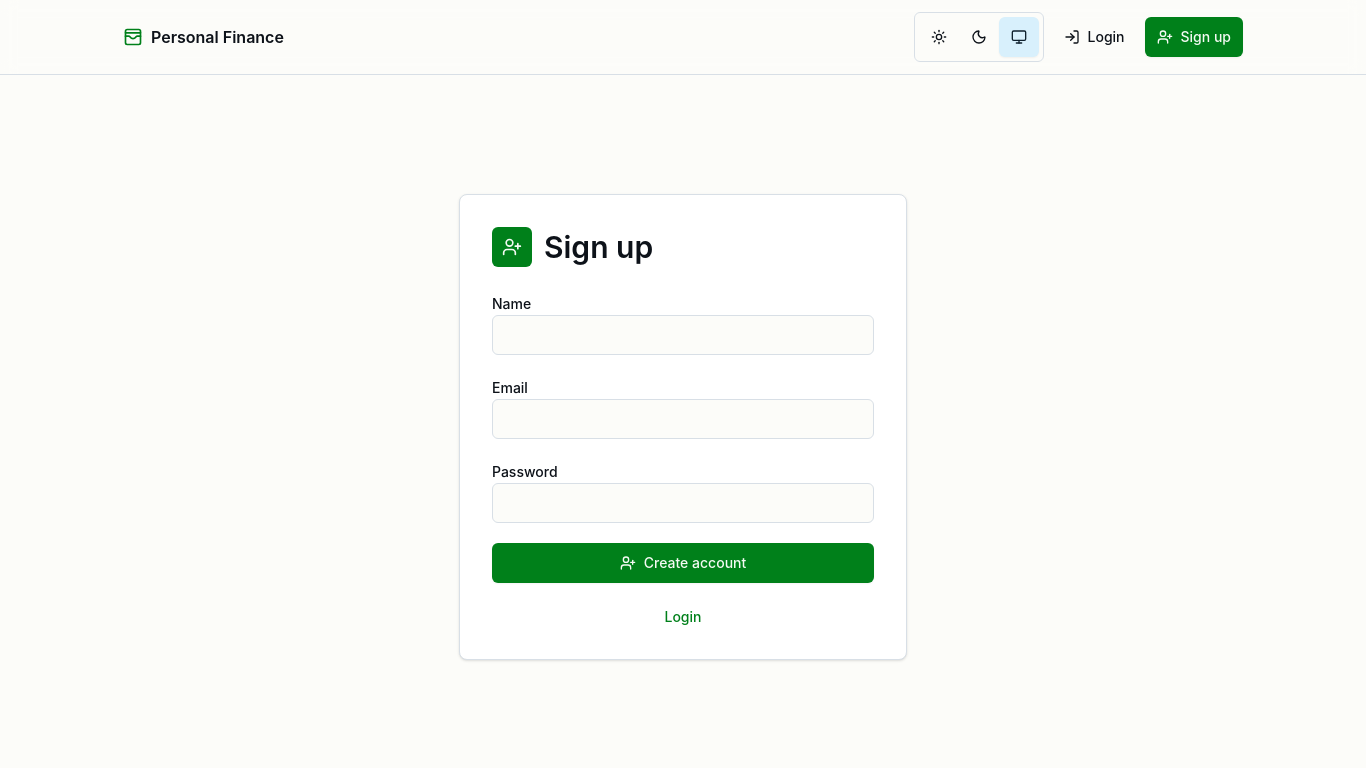
Scenario: validates the sign-up form before submitting
Expected: the heading "Sign up" is shown, [544, 229, 653, 265]
Click the button "Create account" at [683, 563], box [492, 543, 874, 583]
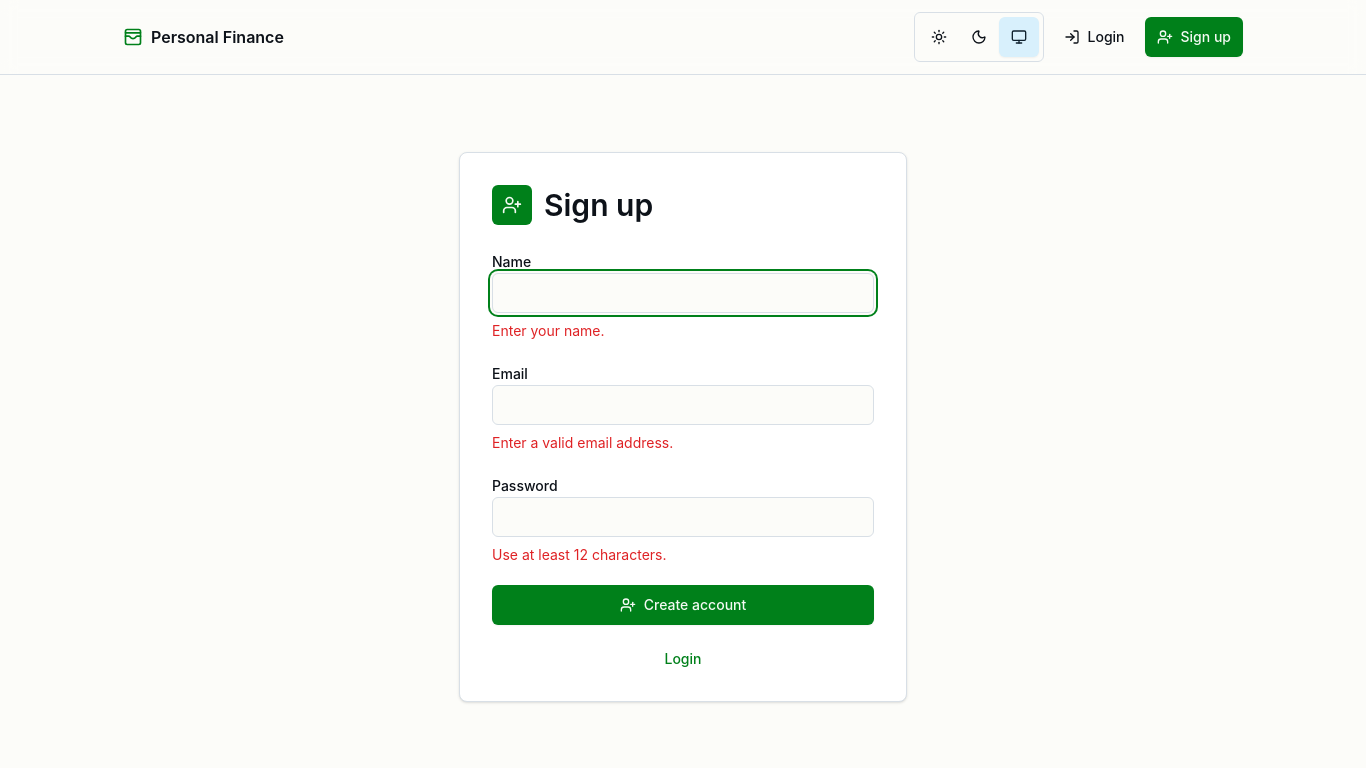
Now the text "Enter your name." is shown, box [492, 322, 605, 339]
Now the text "Enter a valid email address." is shown, box [492, 434, 673, 451]
Now the text "Use at least 12 characters." is shown, box [492, 546, 666, 563]
